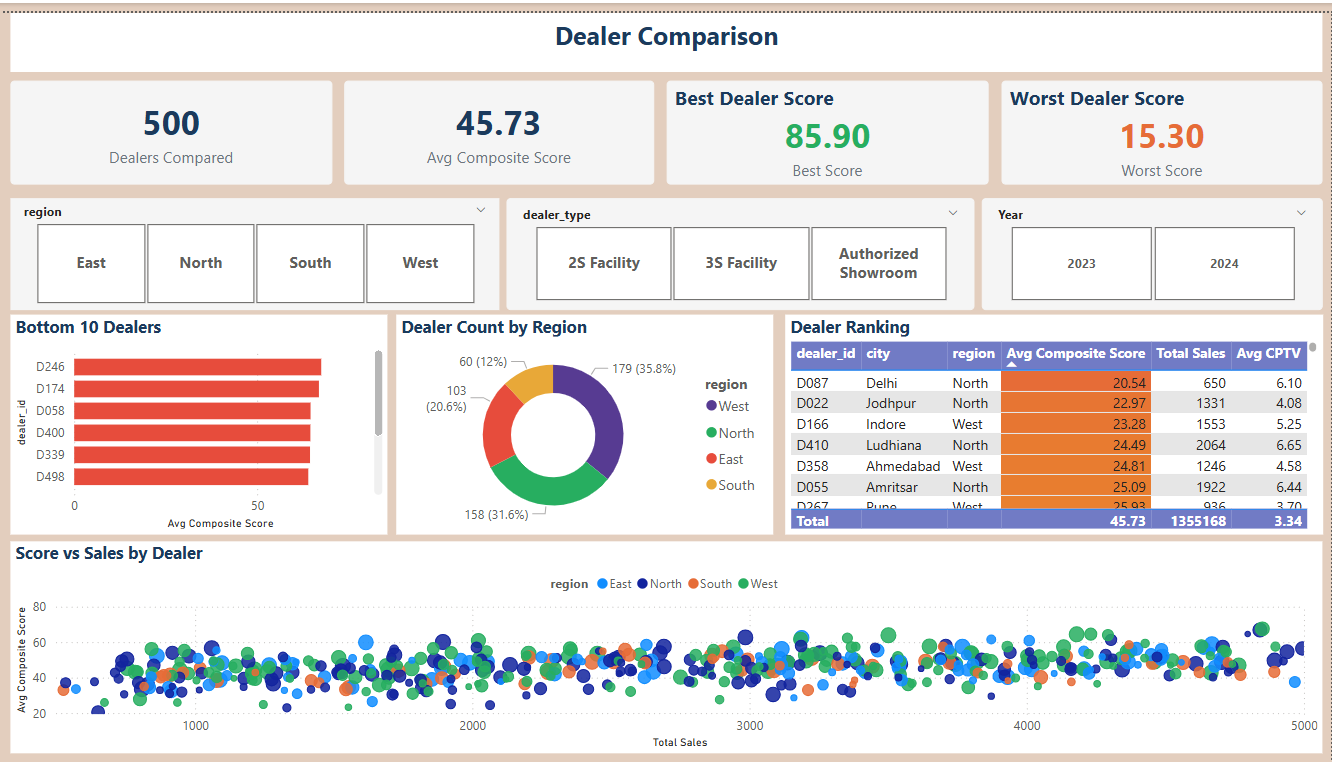

This screenshot's page, from the dashboard's own definition file:
{"tool":"powerbi","page":{"name":"3. Dealer Comparison","canvas":[1280,720],"ordinal":2},"visuals":[{"type":"textbox","box":[9.6,0,1262.5,56.7],"z":0},{"type":"slicer","fields":{"Values":["dealer_master.region"]},"box":[9.6,177.9,470.2,107.7],"z":1000},{"type":"slicer","fields":{"Values":["dealer_master.dealer_type"]},"box":[486.5,177.9,450,107.7],"z":2000},{"type":"slicer","fields":{"Values":["DimDate.Date.Variation.Date Hierarchy.Year"]},"box":[944.2,177.9,327.9,107.7],"z":3000},{"type":"card","fields":{"Values":["dealer_kpi_with_anomalies.Dealers Compared"]},"box":[9.6,65.4,310,100],"z":4000},{"type":"card","fields":{"Values":["dealer_kpi_with_anomalies.Avg Composite Score"]},"box":[330.8,65.4,298.1,100],"z":5000},{"type":"card","title":"Best Dealer Score","fields":{"Values":["dealer_kpi_with_anomalies.Best Score"]},"box":[641.3,65.4,309.6,100],"z":6000},{"type":"card","title":"Worst Dealer Score","fields":{"Values":["dealer_kpi_with_anomalies.Worst Score"]},"box":[962.5,65.4,309.6,100],"z":7000},{"type":"scatterChart","title":"Score vs Sales by Dealer","fields":{"X":["dealer_kpi_with_anomalies.Total Sales"],"Y":["dealer_kpi_with_anomalies.Avg Composite Score"],"Category":["dealer_master.dealer_id"],"Size":["dealer_kpi_with_anomalies.Avg Market Share"],"Series":["dealer_master.region"]},"box":[9.6,507.7,1262.5,203.8],"z":8000},{"type":"tableEx","title":"Dealer Ranking","fields":{"Values":["dealer_master.dealer_id","dealer_master.city","dealer_master.region","dealer_kpi_with_anomalies.Avg Composite Score","dealer_kpi_with_anomalies.Total Sales","dealer_kpi_with_anomalies.Avg CPTV"]},"box":[754.8,290.4,517.3,210.6],"z":9000},{"type":"clusteredBarChart","title":"Bottom 10 Dealers","fields":{"Category":["dealer_master.dealer_id"],"Y":["dealer_kpi_with_anomalies.Avg Composite Score"]},"box":[9.6,290.4,363.5,210.6],"z":10000},{"type":"donutChart","title":"Dealer Count by Region","fields":{"Y":["dealer_kpi_with_anomalies.Dealers Compared"],"Category":["dealer_master.region"]},"box":[380.8,290.4,363.5,210.6],"z":11000}]}

Visuals, with their boxes in screenshot pixels (x1, y1, x2, y2), scaled from the page's 1280x720 canvas onto the 1332x762 screenshot:
textbox: [x1=10, y1=0, x2=1324, y2=60]
slicer - dealer_master.region: [x1=10, y1=188, x2=499, y2=302]
slicer - dealer_master.dealer_type: [x1=506, y1=188, x2=975, y2=302]
slicer - DimDate.Date.Variation.Date Hierarchy.Year: [x1=983, y1=188, x2=1324, y2=302]
card - dealer_kpi_with_anomalies.Dealers Compared: [x1=10, y1=69, x2=333, y2=175]
card - dealer_kpi_with_anomalies.Avg Composite Score: [x1=344, y1=69, x2=654, y2=175]
"Best Dealer Score" card: [x1=667, y1=69, x2=990, y2=175]
"Worst Dealer Score" card: [x1=1002, y1=69, x2=1324, y2=175]
"Score vs Sales by Dealer" scatterChart: [x1=10, y1=537, x2=1324, y2=753]
"Dealer Ranking" tableEx: [x1=785, y1=307, x2=1324, y2=530]
"Bottom 10 Dealers" clusteredBarChart: [x1=10, y1=307, x2=388, y2=530]
"Dealer Count by Region" donutChart: [x1=396, y1=307, x2=775, y2=530]
